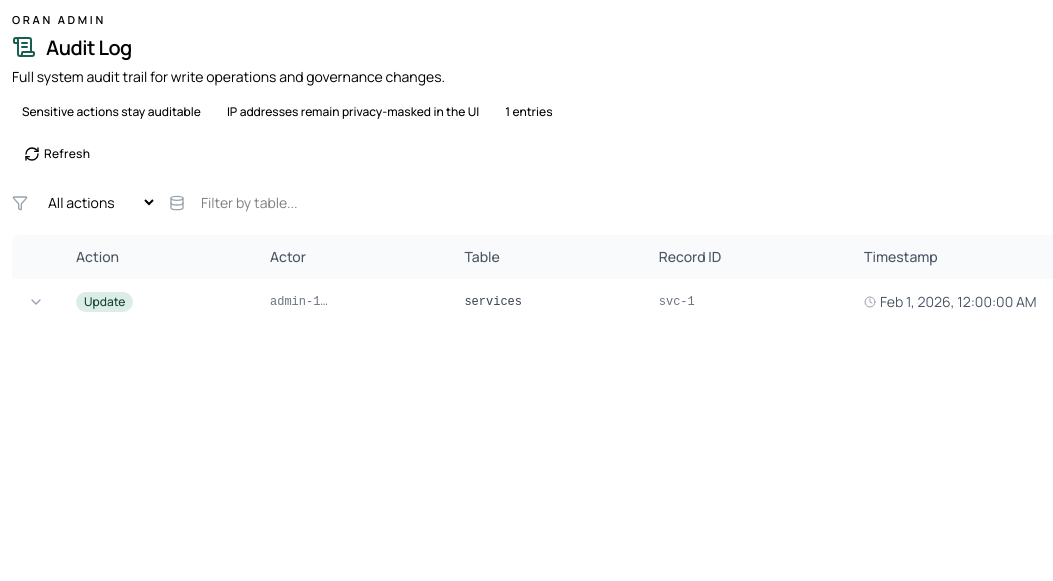
Test: oran admin audit page › loads audit rows and expands JSON change details
The width and height of the screenshot is (1053, 581).
Click the text "svc-1".
click(677, 302)  # box [643, 279, 848, 324]
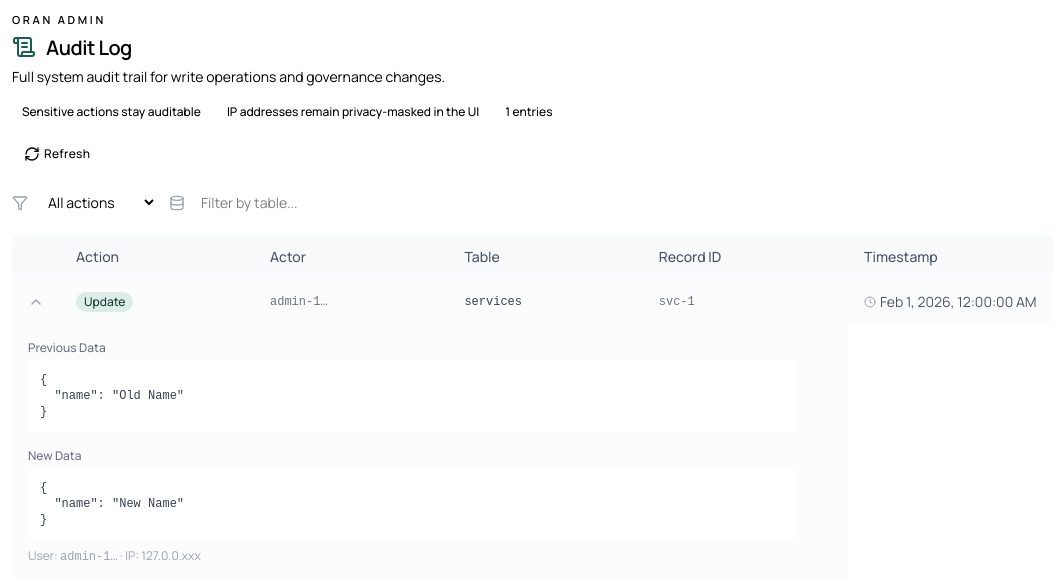
expect the text "Previous Data" is shown: met, box [28, 339, 106, 356]
expect the text "New Data" is shown: met, box [28, 447, 82, 464]
expect the text "User: admin-1" is shown: met, box [28, 547, 201, 564]
